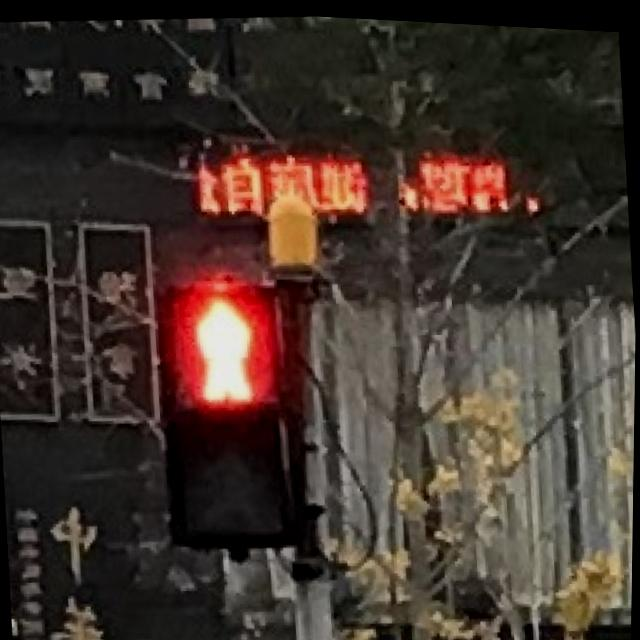red_light: (168, 272, 286, 410)
